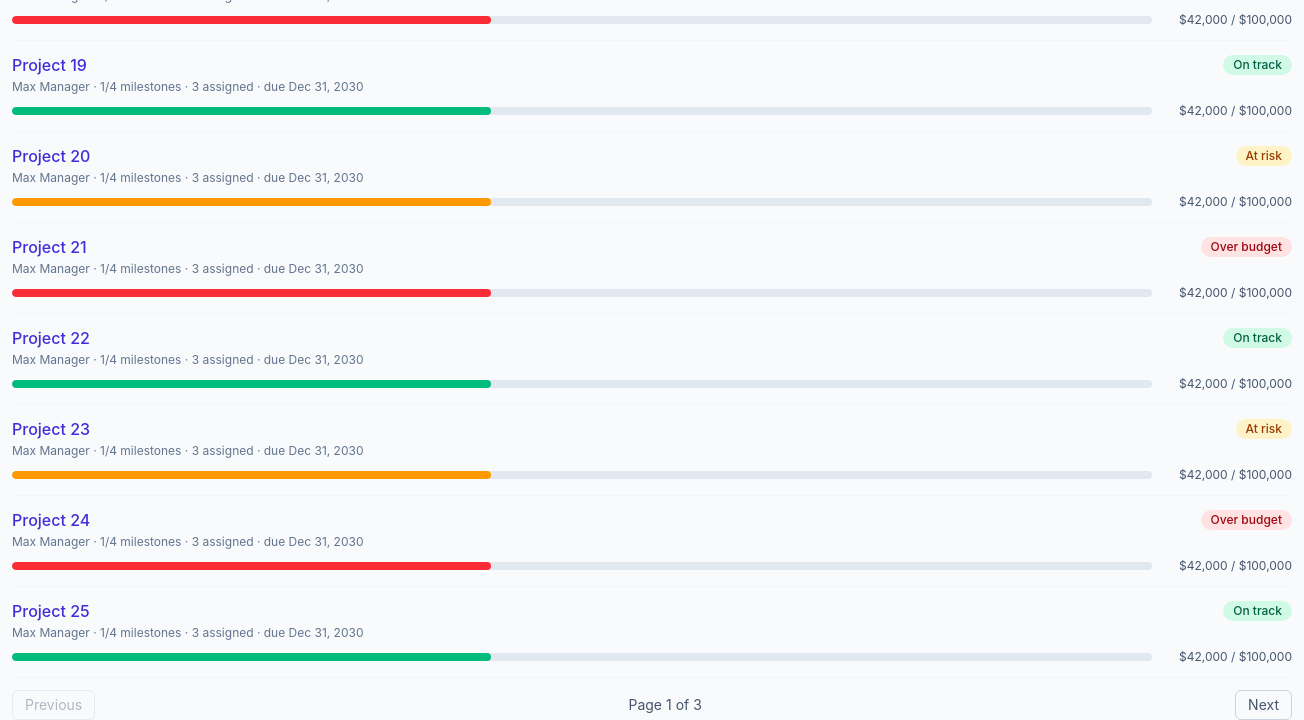
Test: ProjectHealthList › changing the page size to 10 shows 10 rows and returns to page 1
(page scrolled)
Click the button "Next": [1264, 705] box [1235, 690, 1292, 719]
(page scrolled)
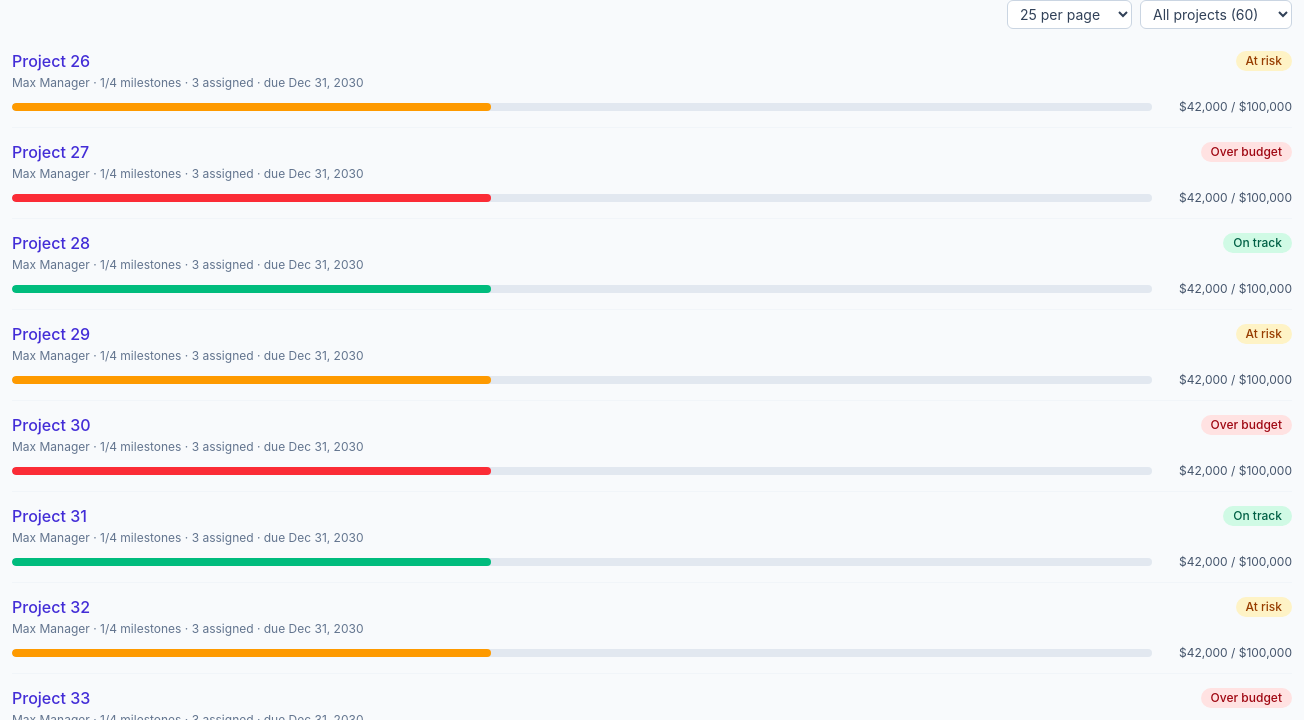
Select "10 per page" in the dropdown named "Projects per page": [1070, 14] box [1007, 0, 1132, 29]
(page scrolled)
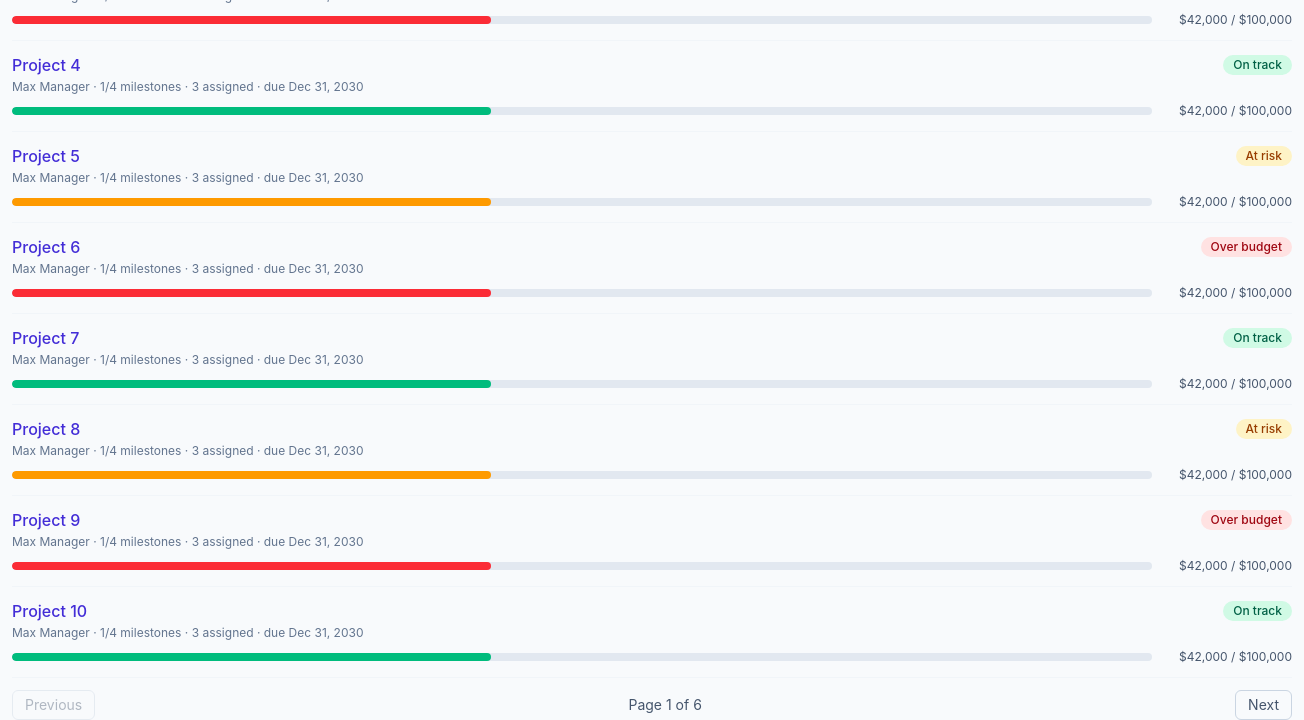
Expected: the text "Page 1 of 6" is shown, [628, 695, 702, 715]
